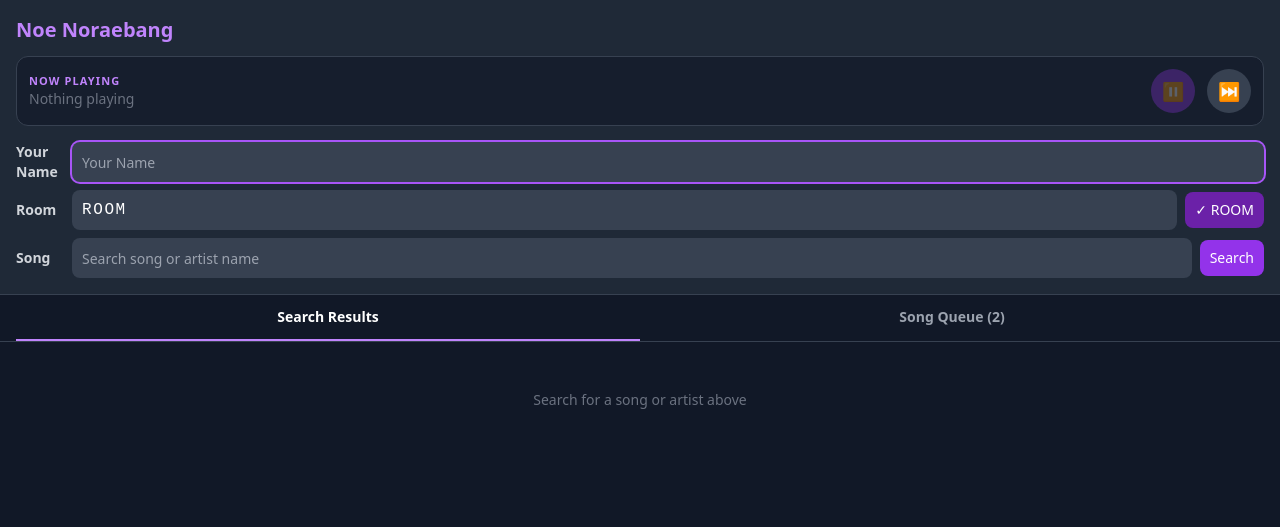
Test: MobileView › remote for the TV › Song Queue shows the TV's queue with singers and a count
What coordinates should you click on to do the following:
click the tab "Song Queue (2)"
I would click on:
 (952, 318)
Its box is [640,295,1264,341].
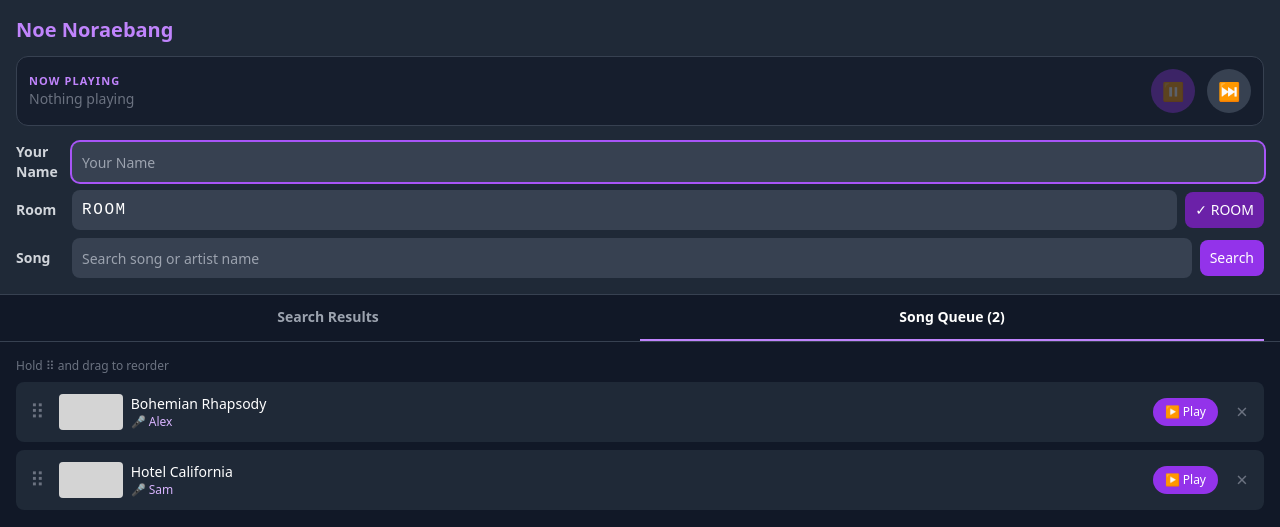
Expected: the button named "Drag to reorder Hotel California" is shown, [24,458,51,502]
